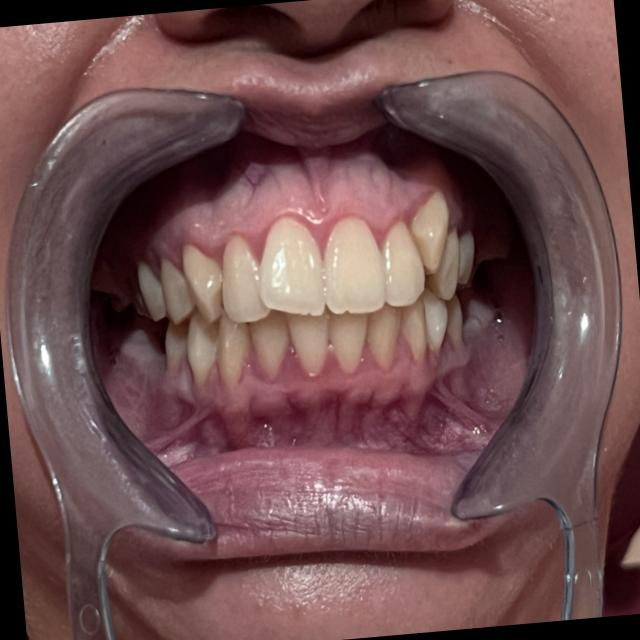tooth: (248, 199, 332, 328), (319, 209, 392, 321), (209, 220, 279, 327), (368, 206, 431, 312), (171, 227, 232, 333), (399, 173, 456, 276), (277, 299, 337, 384), (238, 298, 298, 383), (148, 241, 205, 330), (323, 300, 375, 380), (206, 308, 256, 391), (179, 305, 223, 392), (363, 294, 406, 380), (412, 279, 454, 367), (430, 218, 467, 306), (132, 251, 171, 327), (96, 251, 134, 324), (396, 298, 434, 367), (440, 287, 472, 359), (474, 221, 518, 271), (158, 316, 191, 380), (452, 223, 482, 292), (126, 280, 160, 328), (466, 290, 500, 332), (458, 292, 484, 344)
